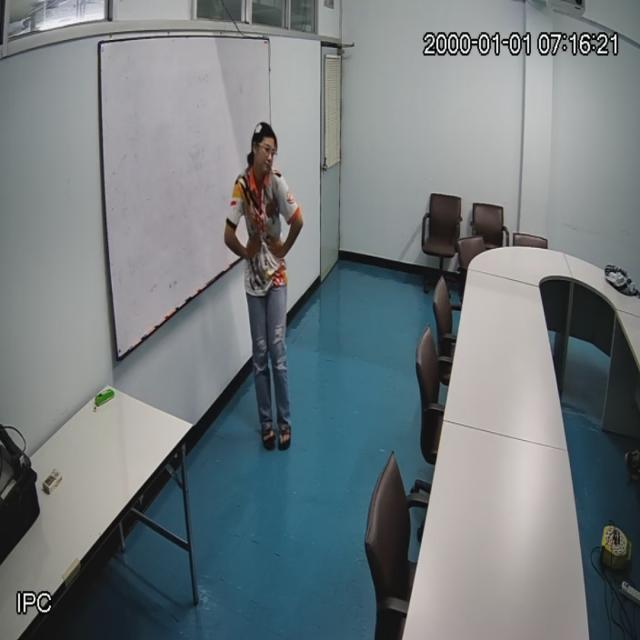normal: (225, 124, 299, 457)
